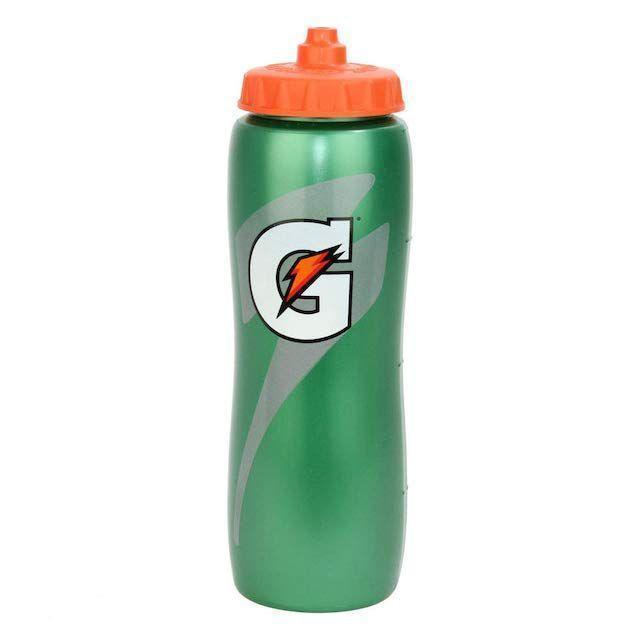Plastic: (222, 25, 414, 618)
